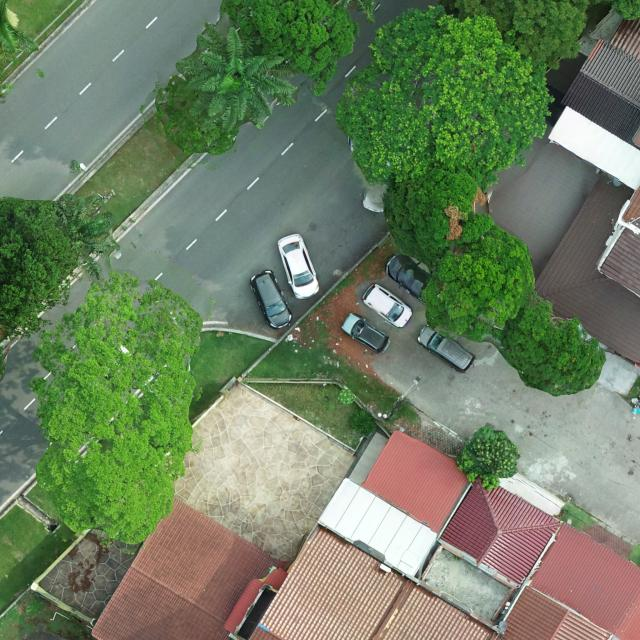tree: (28, 271, 208, 547), (334, 4, 557, 182), (220, 0, 362, 98), (421, 224, 536, 343), (183, 20, 300, 128), (0, 195, 81, 342), (498, 294, 608, 398), (382, 168, 481, 274), (154, 75, 242, 156), (457, 426, 521, 493)
